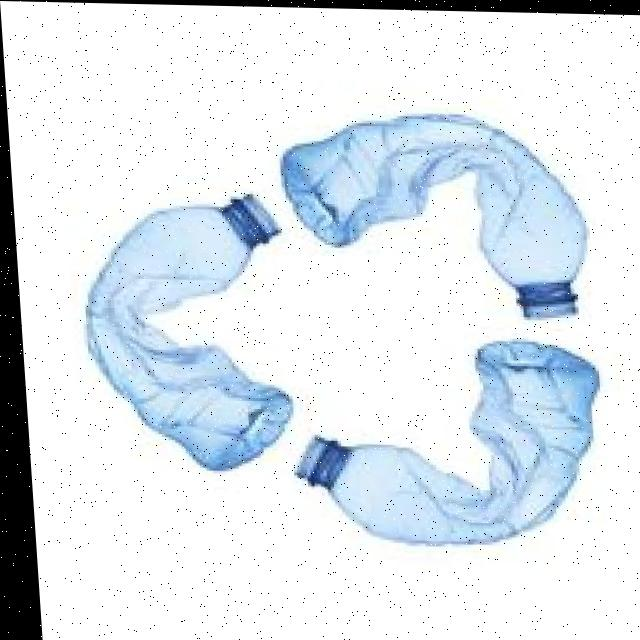bottle: (69, 161, 294, 498)
